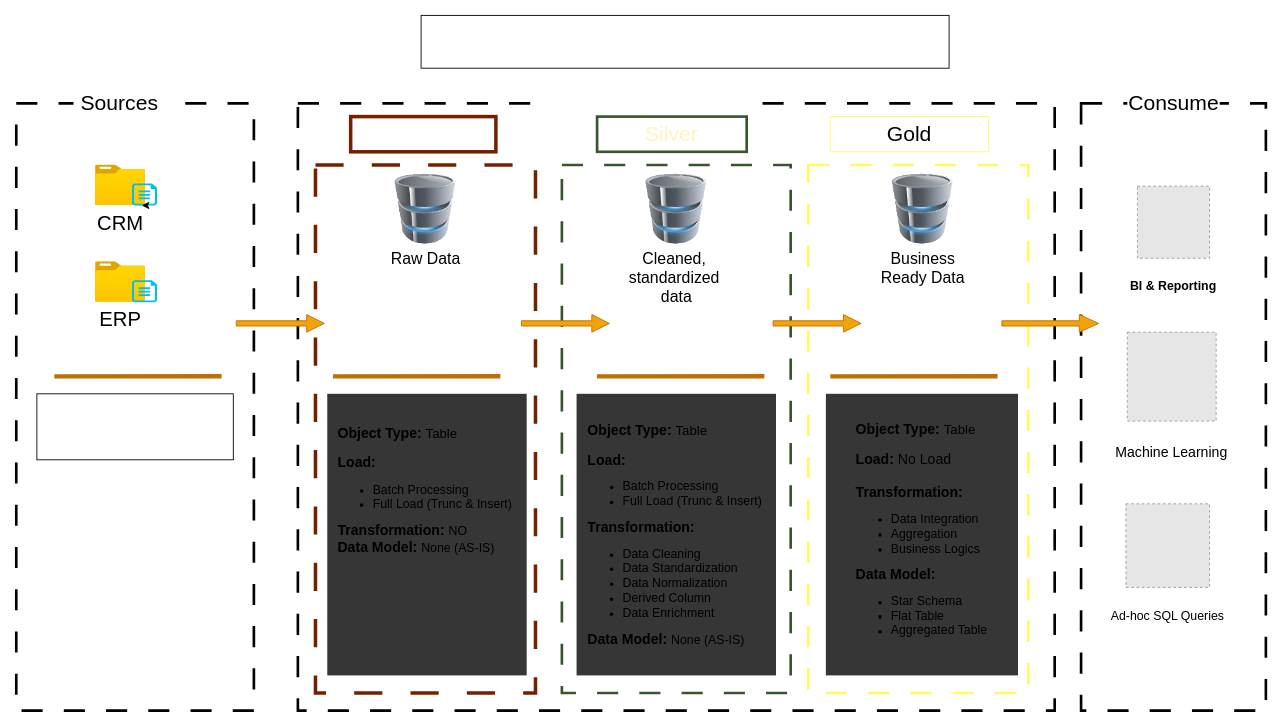
This 1282x727 diagram has some shape labels left out. Grey dashed boxes stand in for pictures. The centre of each missing label's shape, as x and y in pixels:
"Data Warehouse" goes at point (645, 103).
"High Level Data Management Architecture" goes at point (684, 41).
"Object Type: CSV File Interface: Files in folder" goes at point (134, 426).
